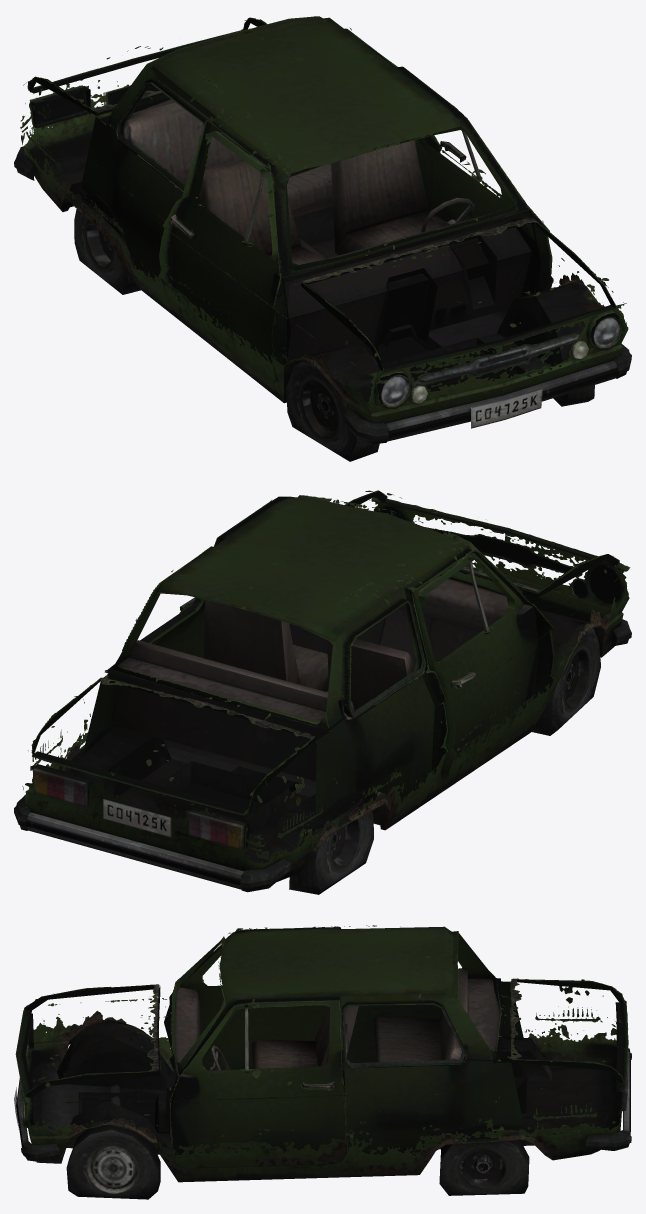
The model's file is car005a.fbx.
3 renders of one model, top to bottom at view 1: azimuth 30°, elevation 25°; view 2: azimuth 150°, elevation 25°; view 3: azimuth 270°, elevation 25°, orthographic. The views are drawn at different scales.
Visible parts, largest first — view 1: studiomesh_7; view 2: studiomesh_7; view 3: studiomesh_7.
Boxes of the visible parts, x1,y1,x2,y2 form: studiomesh_7: [14, 16, 631, 461]; studiomesh_7: [14, 490, 631, 894]; studiomesh_7: [14, 925, 631, 1199].
Bounding box in the file's own units: 83.46 × 65.05 × 187.
